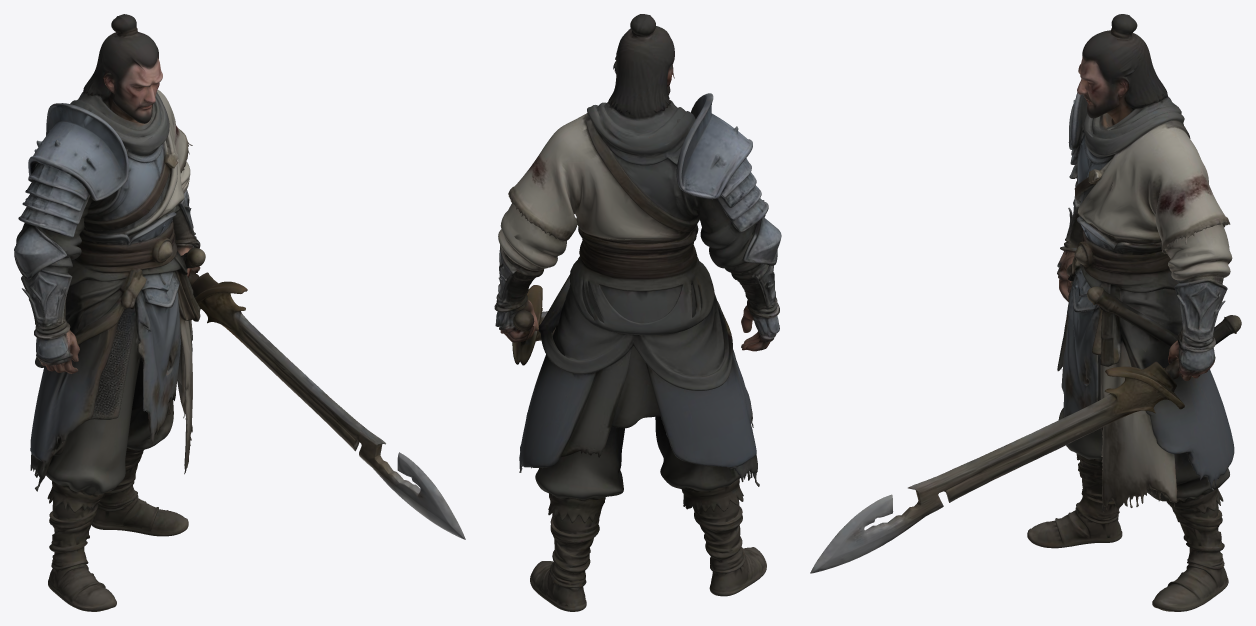
File: np_xun.glb
3 views of the same model, side by side, from view 1: azimuth 30°, elevation 25°; view 2: azimuth 150°, elevation 25°; view 3: azimuth 270°, elevation 25° (orthographic). The views are drawn at different scales.
Parts seen in each view (by area): view 1: node_0; view 2: node_0; view 3: node_0.
Part boxes in pixels (x1,y1,x2,y2): node_0: [14, 14, 465, 611]; node_0: [494, 14, 781, 611]; node_0: [810, 14, 1241, 611].
Size of the model in its own units: 0.589 by 1.01 by 0.7062.
Materials: 1 (1 with a texture image).
